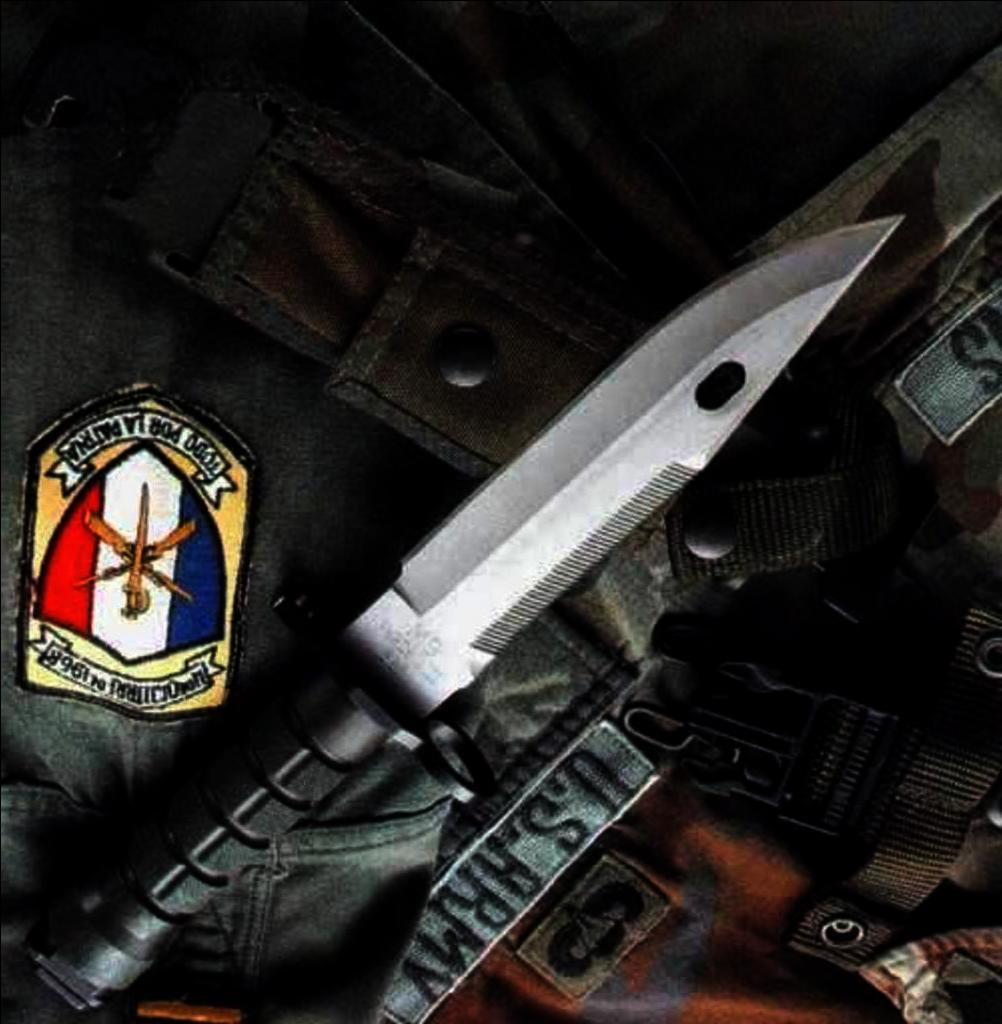melee: (35, 212, 897, 1004)
